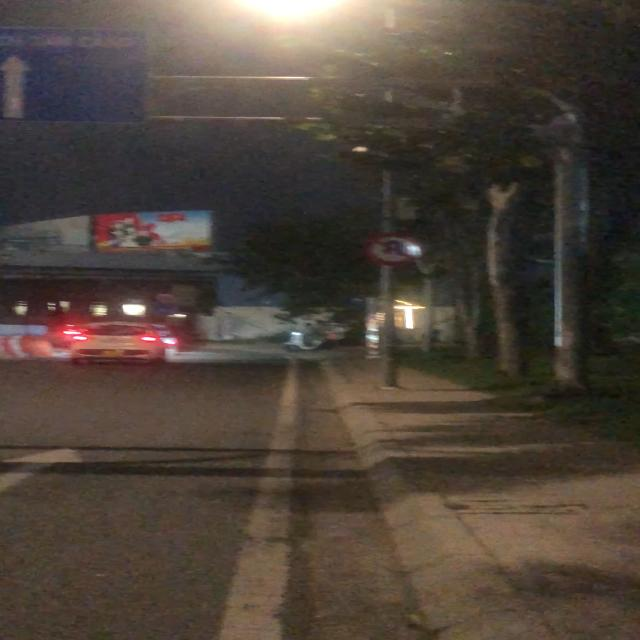Bien bao cam quay dau xe: (362, 231, 423, 268)
